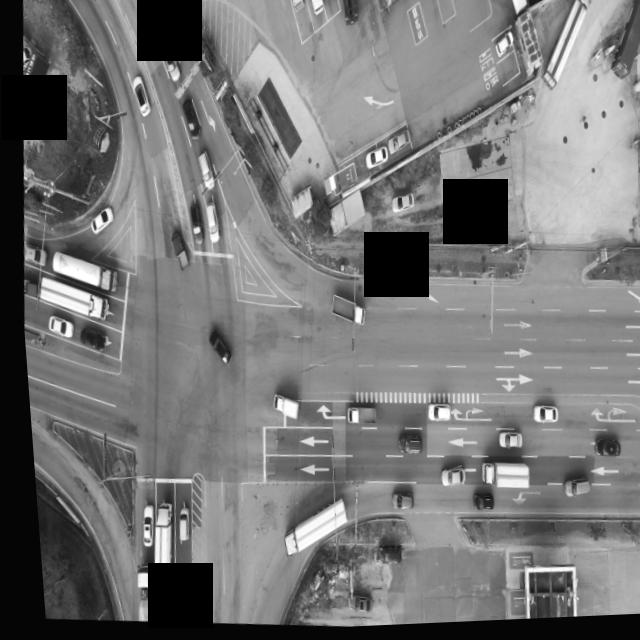car: (157, 37, 182, 83), (202, 327, 229, 365), (178, 96, 201, 139), (127, 74, 150, 116), (192, 148, 213, 190), (198, 200, 218, 244), (85, 203, 111, 233), (74, 325, 103, 351), (184, 202, 201, 245), (384, 127, 409, 155), (130, 502, 146, 545), (42, 314, 70, 338), (491, 31, 513, 61), (361, 145, 386, 171), (373, 549, 400, 572), (385, 192, 410, 216), (554, 479, 580, 502), (18, 243, 43, 266), (585, 441, 612, 462), (337, 593, 362, 615), (368, 545, 393, 567), (526, 407, 552, 428), (432, 468, 458, 489), (420, 404, 446, 425), (167, 506, 181, 541), (491, 432, 515, 452), (391, 437, 415, 457), (384, 493, 406, 513), (465, 493, 487, 513), (164, 611, 176, 624)
medium_truck: (536, 0, 595, 98), (269, 494, 341, 564), (26, 270, 104, 319), (44, 246, 115, 295), (141, 502, 172, 594), (472, 461, 524, 492), (126, 569, 149, 623), (325, 295, 361, 328), (339, 0, 361, 29)
small_bus: (300, 0, 325, 17)
small_truck: (130, 0, 165, 35), (163, 229, 186, 270), (265, 392, 295, 421), (338, 404, 370, 428), (17, 274, 34, 300), (286, 0, 305, 12)
